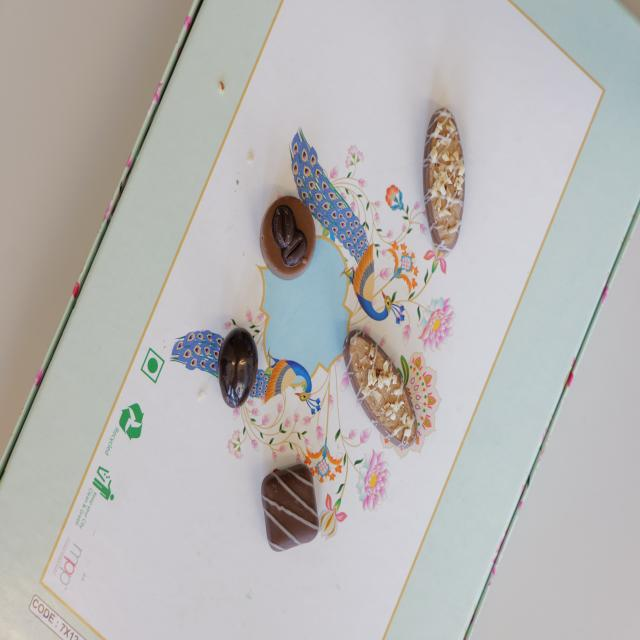Amandina: (345, 328, 419, 452), (422, 107, 464, 258)
Arabia: (259, 192, 315, 278)
Jelly_Black: (220, 327, 257, 408)
Stracciatella: (262, 464, 320, 554)
